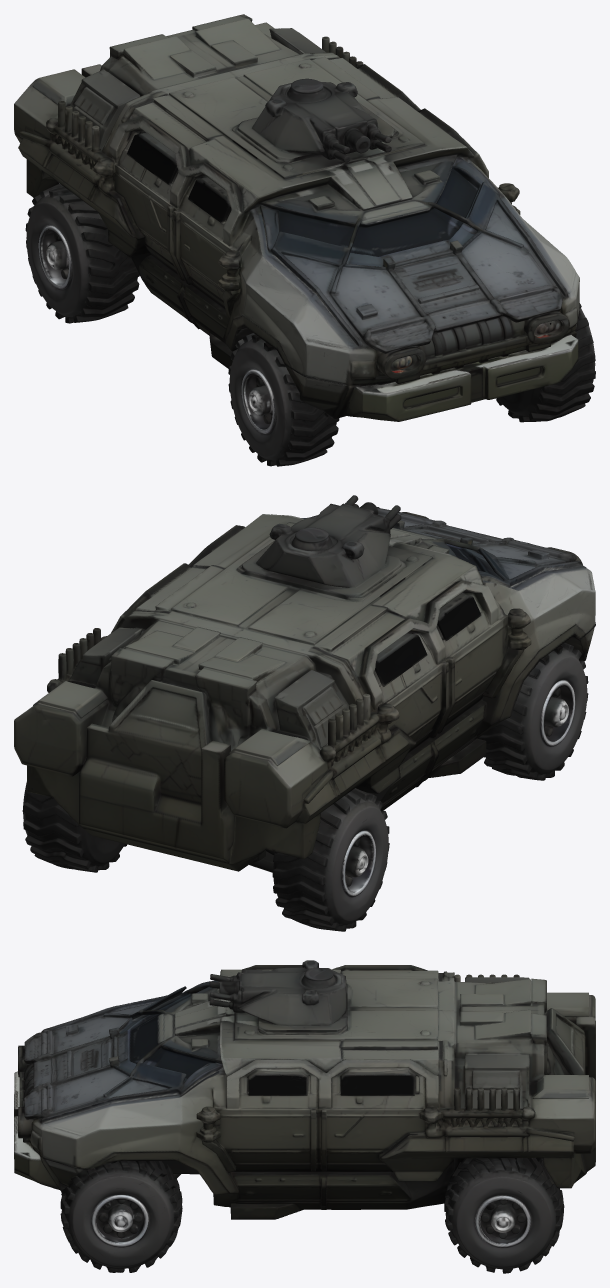
Rendered from xenon_vehicle_source.glb.
3 renders of one model, top to bottom at view 1: azimuth 30°, elevation 25°; view 2: azimuth 150°, elevation 25°; view 3: azimuth 270°, elevation 25°, orthographic. The views are drawn at different scales.
Visible parts, largest first — view 1: texture_pbr_v128; view 2: texture_pbr_v128; view 3: texture_pbr_v128.
Boxes of the visible parts, left/top/right/bottom form: texture_pbr_v128: left=14, top=14, right=595, bottom=466; texture_pbr_v128: left=14, top=495, right=595, bottom=931; texture_pbr_v128: left=14, top=960, right=595, bottom=1273.
Bounding box in the file's own units: 0.5822 × 0.4968 × 1.09.
Materials: 1 (1 with a texture image).
